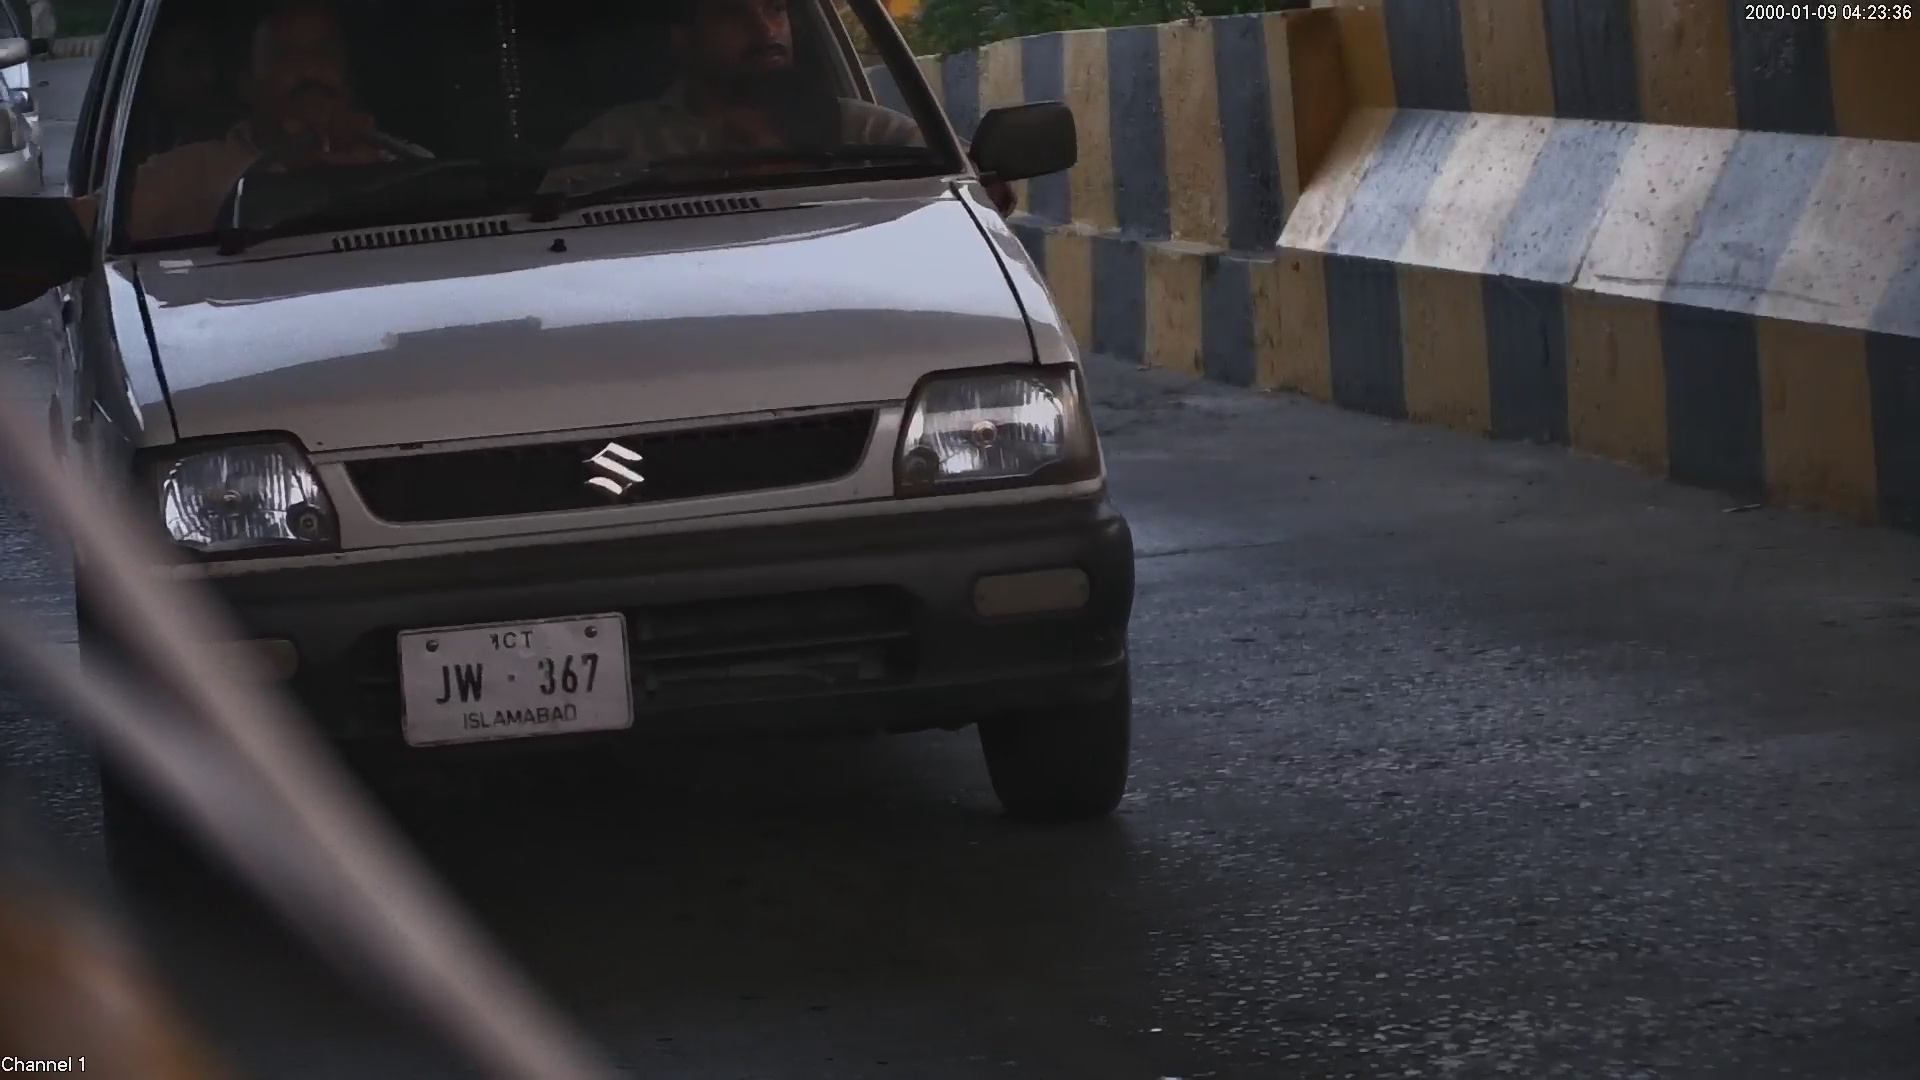Number_Plate: (373, 605, 650, 749)
Undefined: (893, 362, 1082, 477), (139, 440, 315, 557), (963, 553, 1095, 618), (567, 436, 654, 507)
